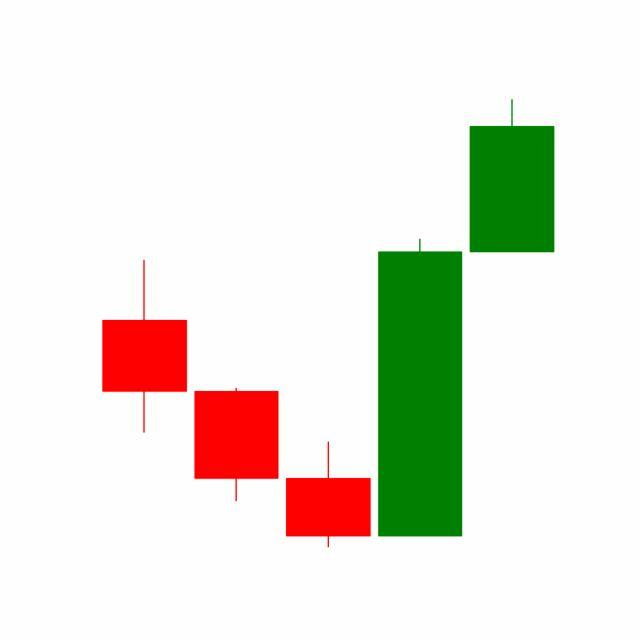Marubozu: (374, 236, 468, 540)
